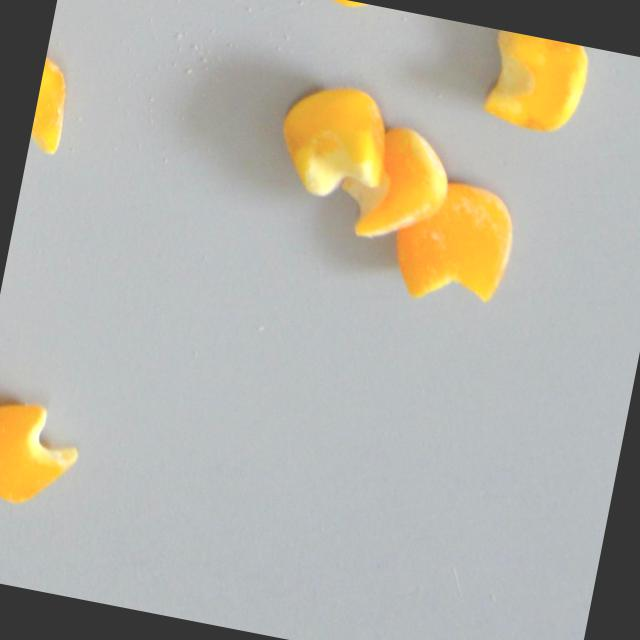no_canjicado: (268, 76, 394, 206), (0, 398, 86, 515)
pelicula: (381, 170, 520, 315), (329, 116, 457, 253), (477, 28, 593, 139), (24, 54, 75, 172)
